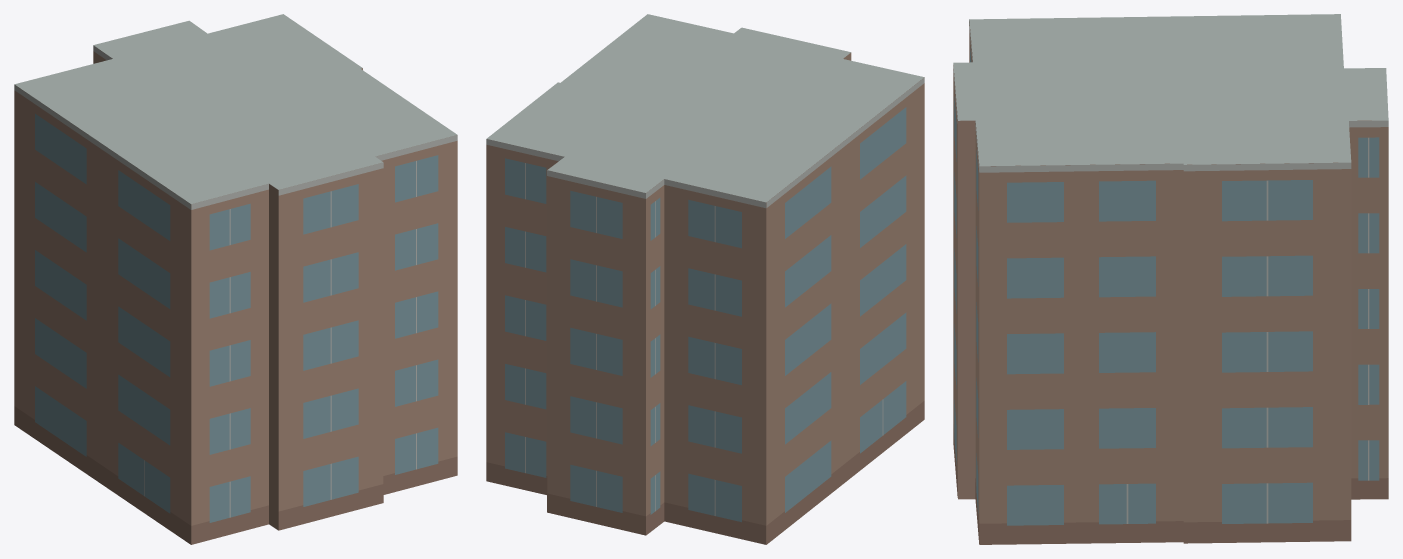
The model's file is survey-upis-32840877.glb.
3 renders of one model, left to right at view 1: azimuth 30°, elevation 25°; view 2: azimuth 150°, elevation 25°; view 3: azimuth 270°, elevation 25°, orthographic. The views are drawn at different scales.
Visible parts, largest first — view 1: survey-upis-32840877.tmp; view 2: survey-upis-32840877.tmp; view 3: survey-upis-32840877.tmp.
Part boxes in pixels (bbox=[...]): survey-upis-32840877.tmp: bbox=[14, 14, 457, 544]; survey-upis-32840877.tmp: bbox=[486, 14, 924, 544]; survey-upis-32840877.tmp: bbox=[953, 14, 1388, 544].
Size of the model in its own units: 12.3 by 14.25 by 14.86.
